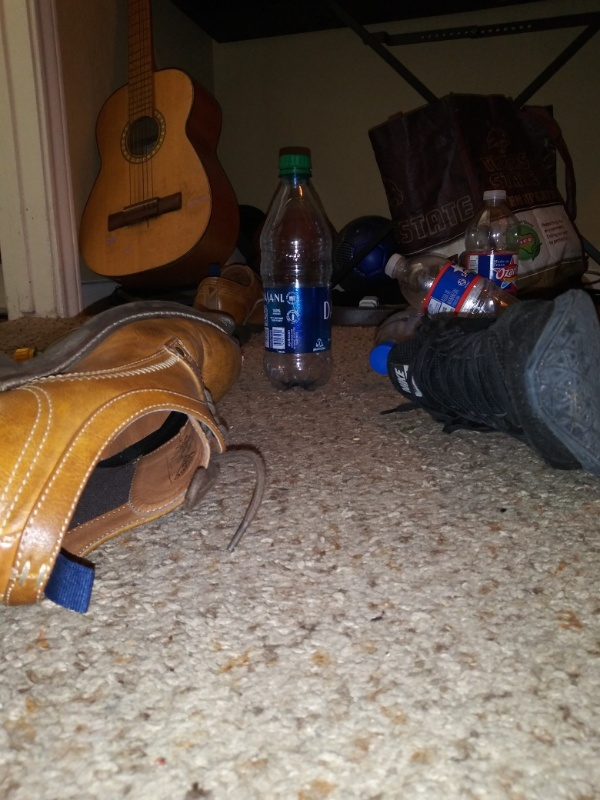bottle: (253, 146, 346, 394), (382, 248, 520, 314), (460, 187, 524, 311), (361, 297, 440, 376)
